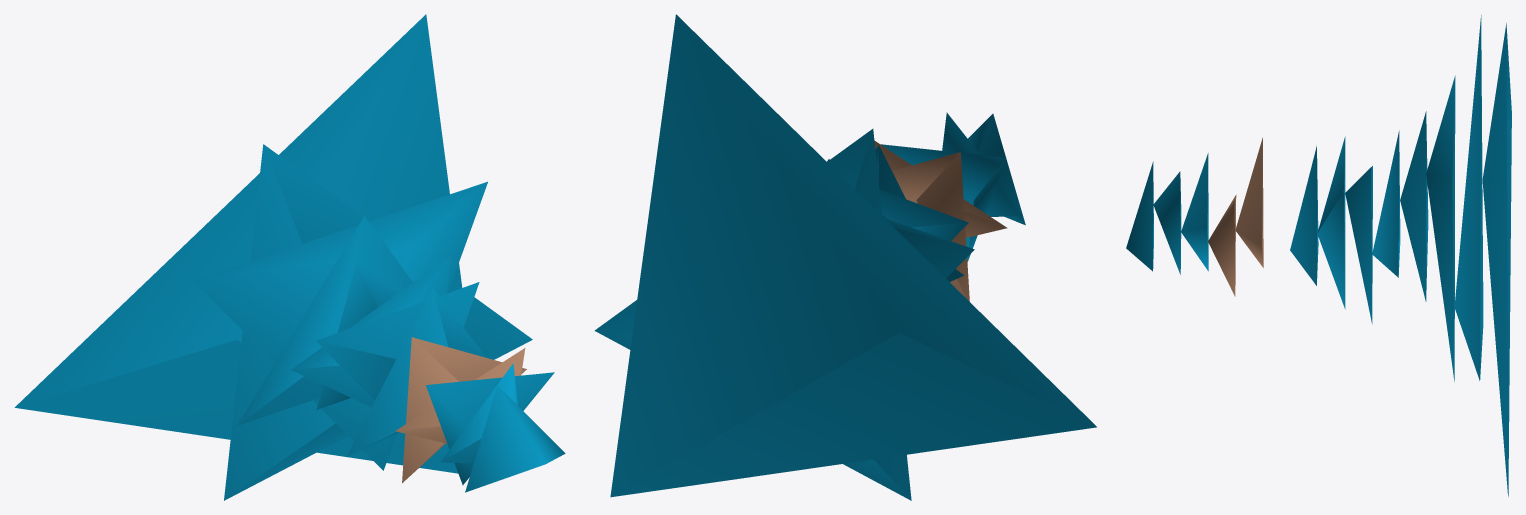
Rendered from 2014.04.18-Fleur_UvMapping.dae.
3 views of the same model, side by side, from view 1: azimuth 30°, elevation 25°; view 2: azimuth 150°, elevation 25°; view 3: azimuth 270°, elevation 25° (orthographic). The views are drawn at different scales.
Parts seen in each view (by area): view 1: couche4_5, couche4_4, couche4_3, couche4_2, couche3_2, couche3_1, couche1_1, couche2_2, couche1_3, couche3_3, couche4_1, couche1_2 (+1 smaller); view 2: couche4_5, couche4_4, couche2_2, couche1_3, couche3_2, couche4_3, couche1_1, couche1_2, couche2_1, couche3_1; view 3: couche4_5, couche4_4, couche4_3, couche4_2, couche3_2, couche3_3, couche4_1, couche3_1, couche2_2, couche1_3, couche1_1, couche1_2 (+1 smaller).
Part boxes in pixels (x1,y1,x2,y2): couche4_5: [14, 14, 462, 473]; couche4_4: [224, 144, 532, 500]; couche4_3: [193, 181, 487, 470]; couche4_2: [237, 216, 412, 425]; couche3_2: [316, 282, 479, 400]; couche3_1: [346, 288, 486, 456]; couche1_1: [465, 385, 565, 492]; couche2_2: [402, 337, 526, 483]; couche1_3: [426, 372, 554, 485]; couche3_3: [291, 256, 450, 407]; couche4_1: [316, 263, 475, 409]; couche1_2: [440, 363, 518, 463]; couche4_5: [610, 14, 1096, 497]; couche4_4: [594, 128, 911, 500]; couche2_2: [892, 152, 969, 301]; couche1_3: [881, 144, 1006, 261]; couche3_2: [879, 189, 968, 240]; couche4_3: [884, 218, 974, 278]; couche1_1: [968, 113, 1025, 225]; couche1_2: [942, 112, 1020, 216]; couche2_1: [874, 140, 1007, 237]; couche3_1: [875, 145, 905, 198]; couche4_5: [1482, 23, 1511, 496]; couche4_4: [1454, 15, 1483, 380]; couche4_3: [1426, 75, 1455, 381]; couche4_2: [1400, 111, 1428, 301]; couche3_2: [1317, 136, 1345, 309]; couche3_3: [1345, 166, 1372, 324]; couche4_1: [1372, 130, 1400, 277]; couche3_1: [1290, 146, 1318, 285]; couche2_2: [1235, 137, 1263, 267]; couche1_3: [1181, 153, 1208, 271]; couche1_1: [1126, 161, 1153, 271]; couche1_2: [1153, 171, 1181, 274].
Bounding box in the file's own units: 39.75 × 28.23 × 36.33.
